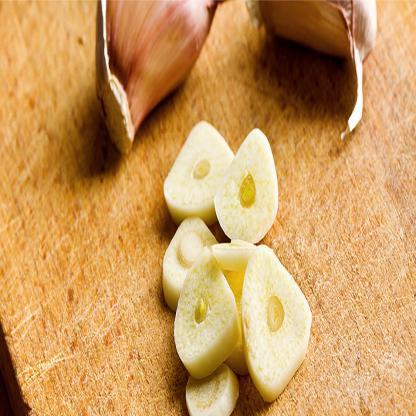garlic: (150, 116, 314, 415)
